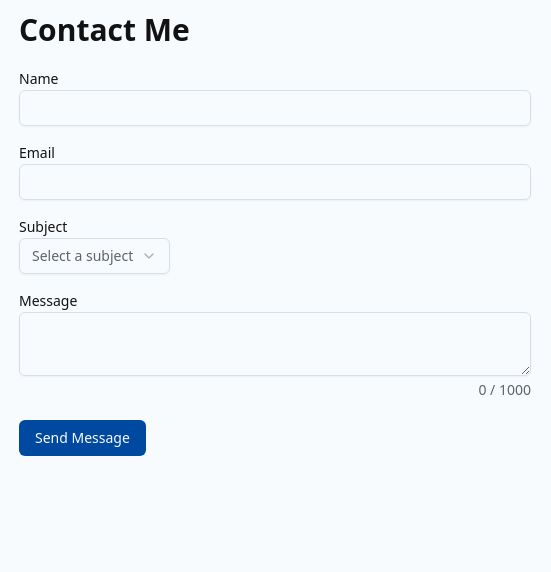
Scenario: Epic 1 Story 2 — Validation, Character Counter, and Error States › Email field validation › shows error for an email without "@" on submit
Type "notanemail" into the field labelled "Email".
click(275, 182); type("notanemail")  # box 19,164 -> 531,200
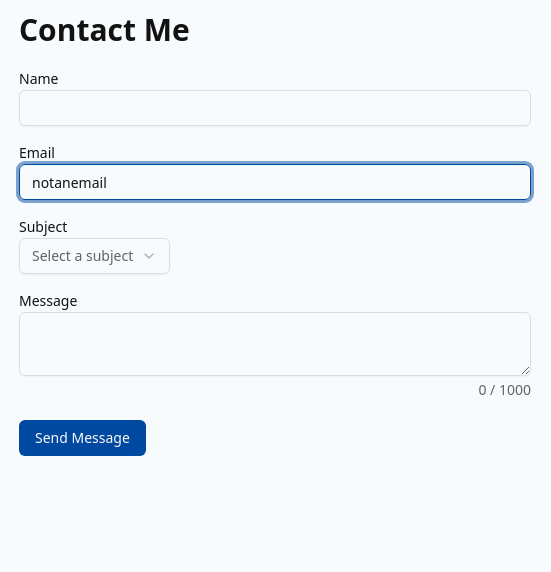
Click the button "Send Message".
click(82, 438)  # box 19,420 -> 146,456
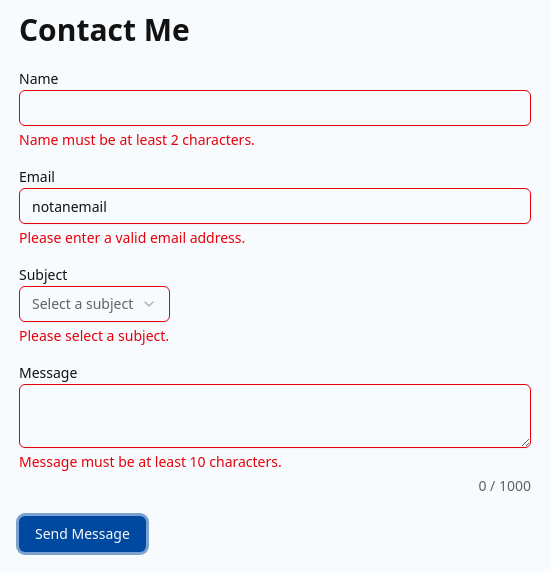
Result: the text "Please enter a valid email address." is shown at 19,228 -> 245,247
